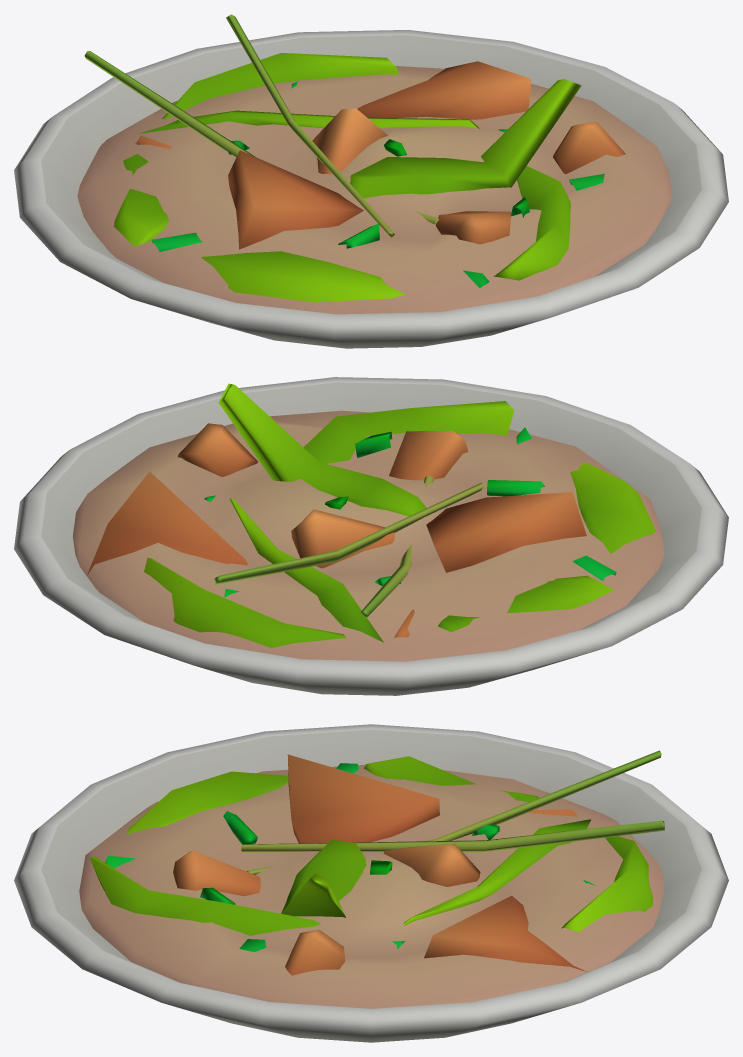
The model's file is vegetable_soup.glb.
The picture shows the model from 3 angles, top to bottom: view 1: azimuth 30°, elevation 25°; view 2: azimuth 150°, elevation 25°; view 3: azimuth 270°, elevation 25°; orthographic projection.
Visible parts, largest first — view 1: SM_Food_General_07, SM_Dish_A.007; view 2: SM_Food_General_07, SM_Dish_A.007; view 3: SM_Food_General_07, SM_Dish_A.007.
Boxes of the visible parts, x1,y1,x2,y2 form: SM_Food_General_07: (77,14,672,314); SM_Dish_A.007: (14,30,728,348); SM_Food_General_07: (72,383,663,661); SM_Dish_A.007: (14,377,728,695); SM_Food_General_07: (79,750,664,1008); SM_Dish_A.007: (14,724,728,1042).
Size of the model in its own units: 0.7473 by 0.1716 by 0.7473.
1 material, 1 textured.
